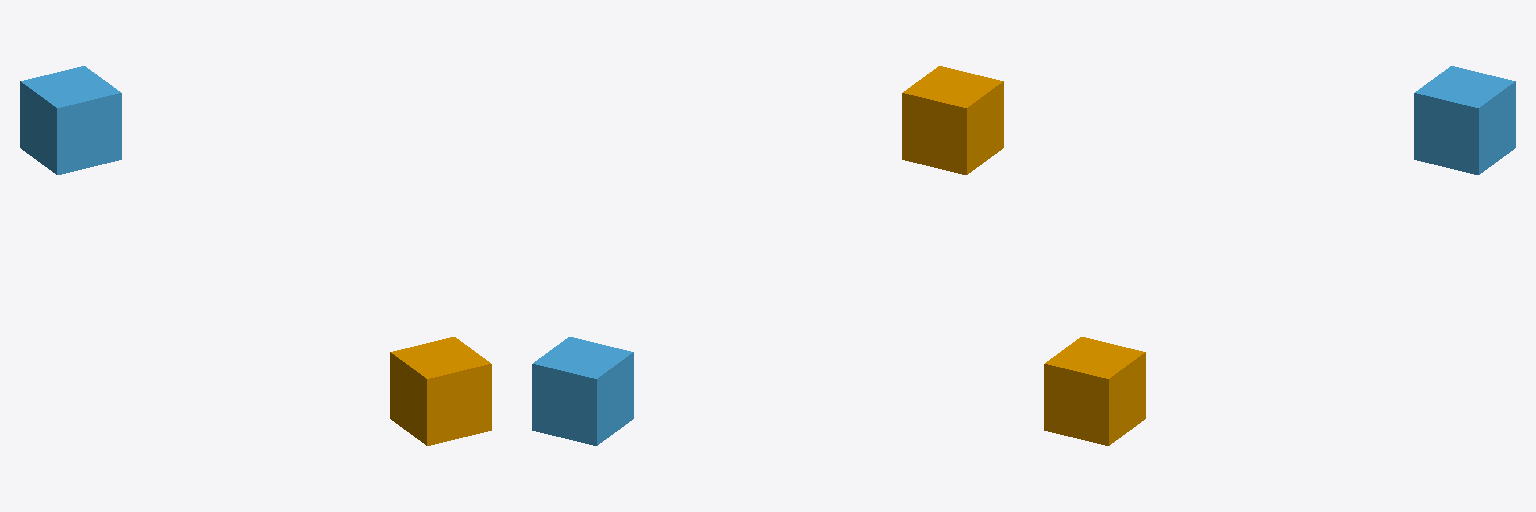
The robot description file, URDF, robot "urdf_robot":
<?xml version="1.0" ?>
<robot name="urdf_robot">
  <link name="baseLink">
    <inertial>
      <origin rpy="0 0 0" xyz="0 0 0"/>
       <mass value="0.0"/>
       <inertia ixx="0" ixy="0" ixz="0" iyy="0" iyz="0" izz="0"/>
    </inertial>
    <visual>
      <origin rpy="0 0 0" xyz="0 0 0"/>
      <geometry>
      <box size="0.1 .1 .1"/>
      </geometry>
    </visual>
    <collision>
      <origin rpy="0 0 0" xyz="0 0 0"/>
      <geometry>
	 <box size="0.1 .1 .1"/>
      </geometry>
    </collision>
  </link>
   <link name="childA">
    <inertial>
      <origin rpy="0 0 0" xyz="0 1 -1"/>
      <mass value="10.0"/>
      <inertia ixx="1" ixy="0" ixz="0" iyy="1" iyz="0" izz="1"/>
    </inertial>
    <visual>
      <origin rpy="0 0 0" xyz="0 1 -1"/>
      <geometry>
        <box size="0.1 .1 .1"/>
      </geometry>
    </visual>
    <collision>
      <origin rpy="0 0 0" xyz="0 1 -1"/>
      <geometry>
        <box size="0.1 .1 .1"/>
      </geometry>
    </collision>
  </link>
   <joint name="joint_baseLink_childA" type="prismatic">
    <parent link="baseLink"/>
    <child link="childA"/>
    <origin xyz="0 0 1.0"/>
	<axis xyz="0 0 1"/>
	<limit lower="-0.1" upper="0.2" />
  </joint>
 
</robot>


--- Facts derived from the render (not from the file) ---
3 views of the same robot in one strip: view 1: azimuth 30°, elevation 25°; view 2: azimuth 150°, elevation 25°; view 3: azimuth 330°, elevation 25° (orthographic).
Model urdf_robot with 2 links and 1 joints (1 prismatic), rooted at baseLink, posed every joint at zero.
Links seen in each view (by area): view 1: baseLink, childA; view 2: baseLink, childA; view 3: baseLink, childA.
Link boxes in pixels (x1=…): baseLink: x1=390, y1=337, x2=491, y2=445; childA: x1=20, y1=66, x2=121, y2=174; baseLink: x1=902, y1=66, x2=1003, y2=174; childA: x1=532, y1=337, x2=633, y2=445; baseLink: x1=1044, y1=337, x2=1145, y2=445; childA: x1=1414, y1=66, x2=1515, y2=174.
Size in the robot's own frame: 0.1 by 1.1 by 0.1 metres.
Geometry: primitives only (box / cylinder / sphere), no mesh files.